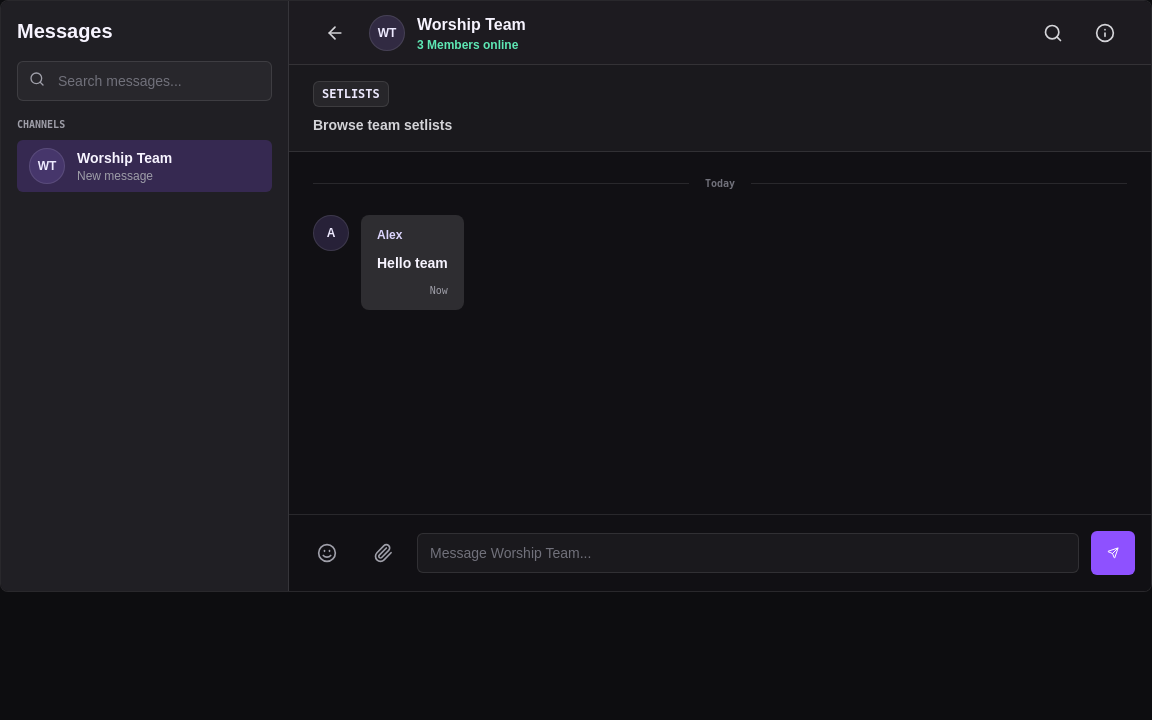
Test: Messages chat selection › clears server search results on send and shows the newly sent message
Step 1. Type "Hello" into the field with placeholder "Search messages..." → (144, 81), box [17,61,272,101]
Wait 300 ms
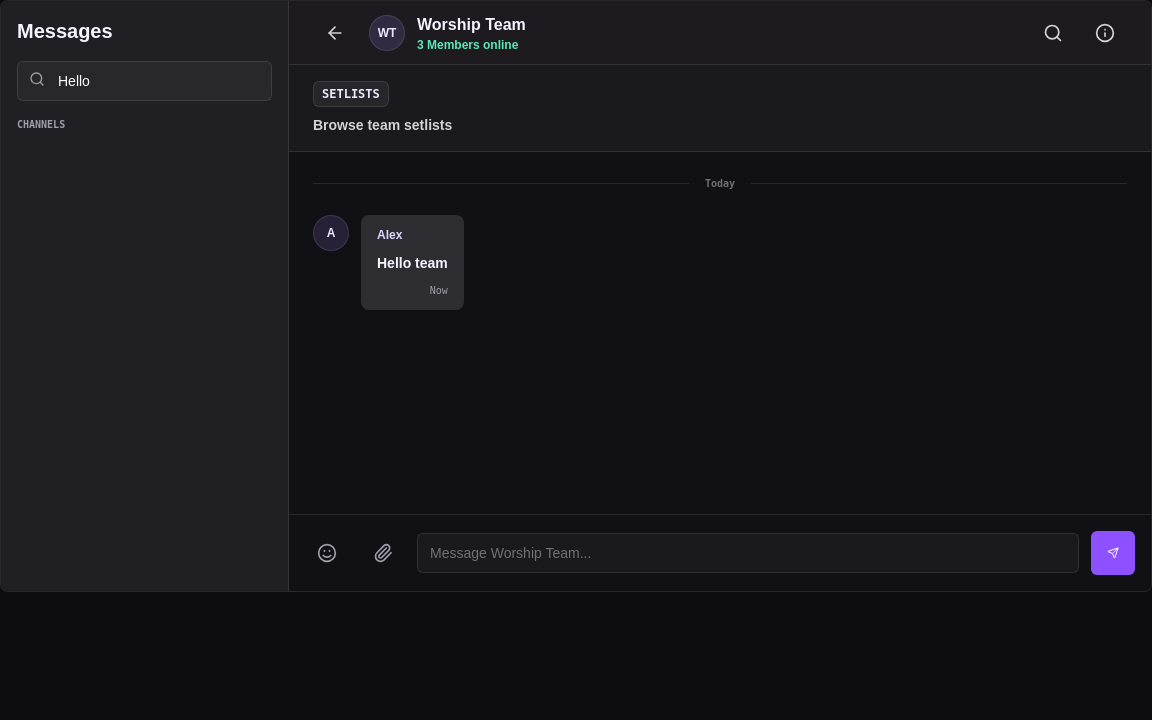
Check: the text "Hello team" is shown, box [377,251,448,275]
Step 2. Type "Fresh message after search" into the field with placeholder "Message Worship Team..." → (748, 553), box [417,533,1079,573]
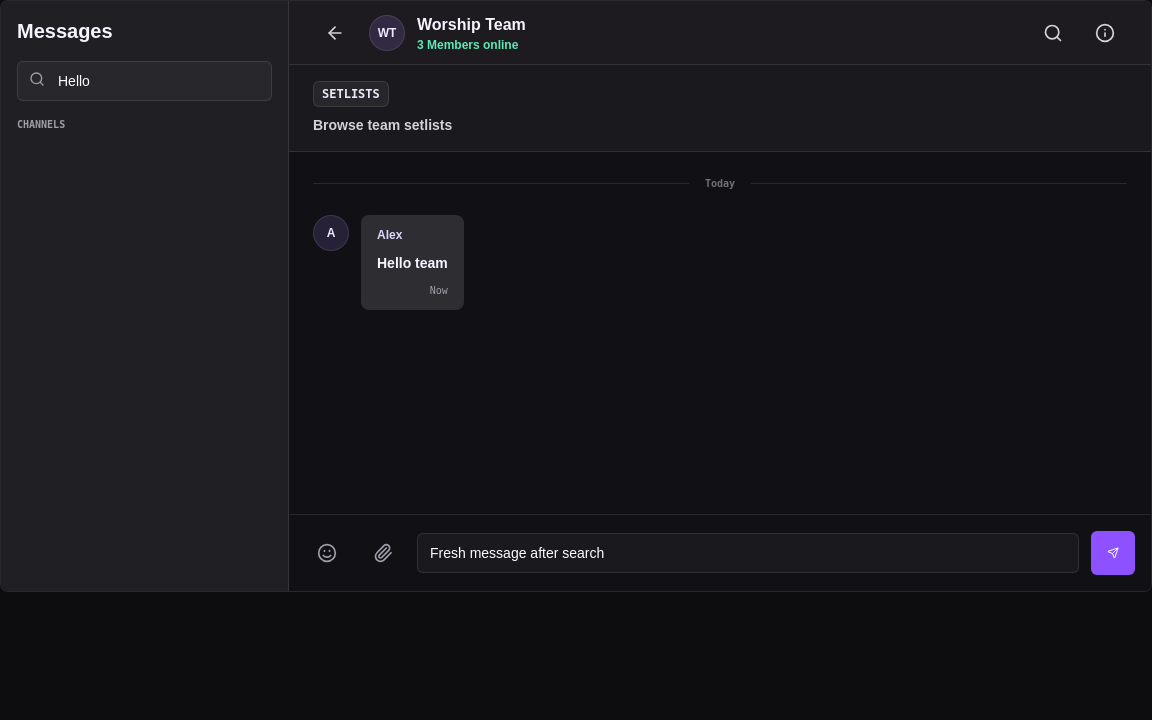
Step 3. Click the button named "Send message" → (1113, 553), box [1091,531,1135,575]
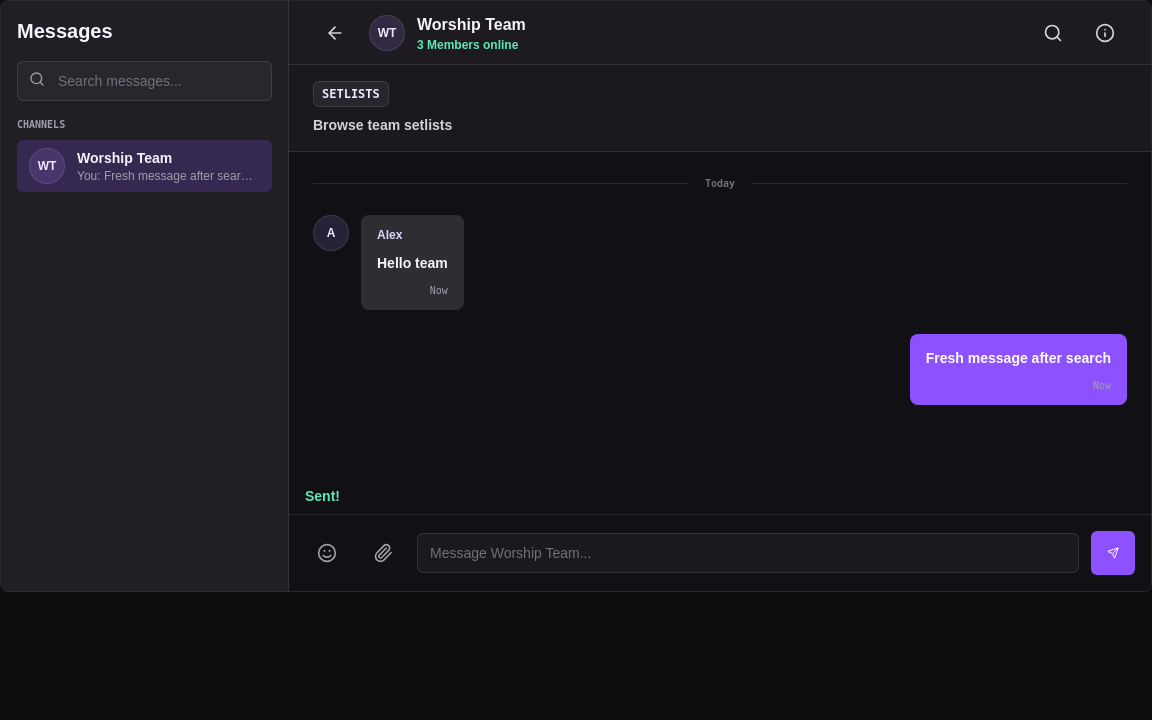
Check: the text "Hello team" is shown, box [377,251,448,275]
Check: the field with placeholder "Search messages..." is empty, box [17,61,272,101]
Check: the text "Fresh message after search" is shown, box [926,346,1111,370]
